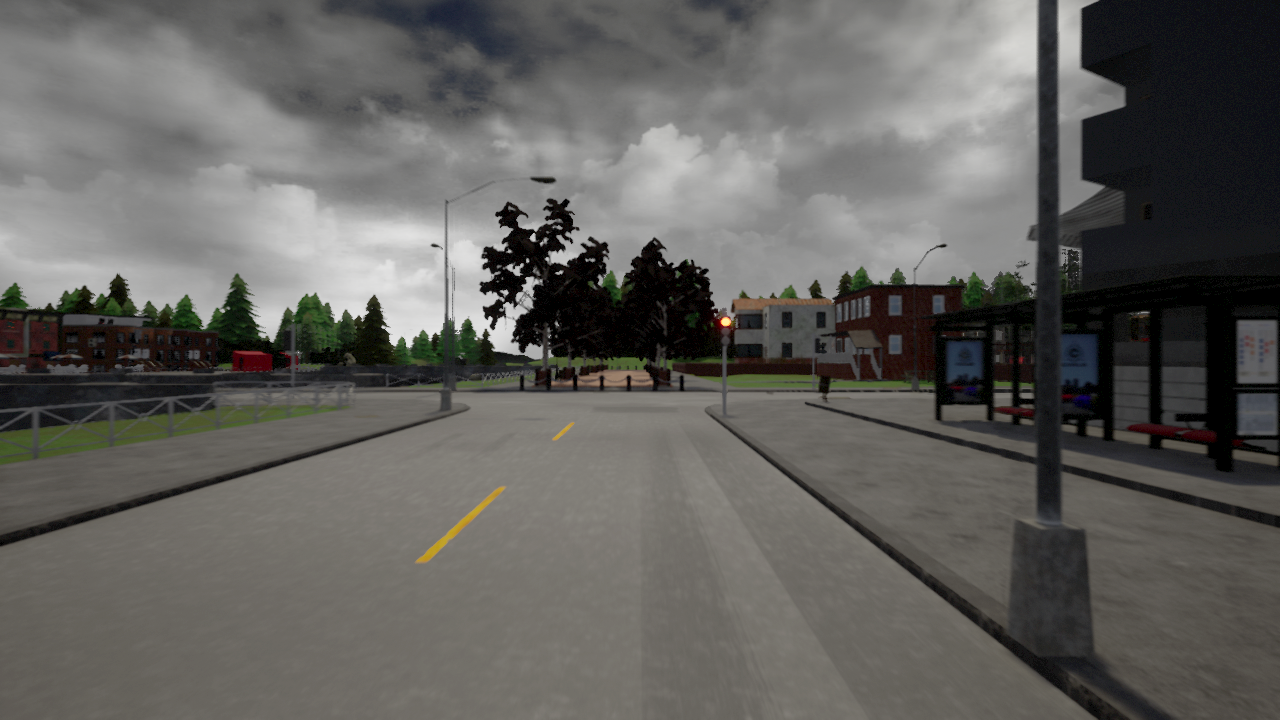red: (719, 316, 731, 346)
